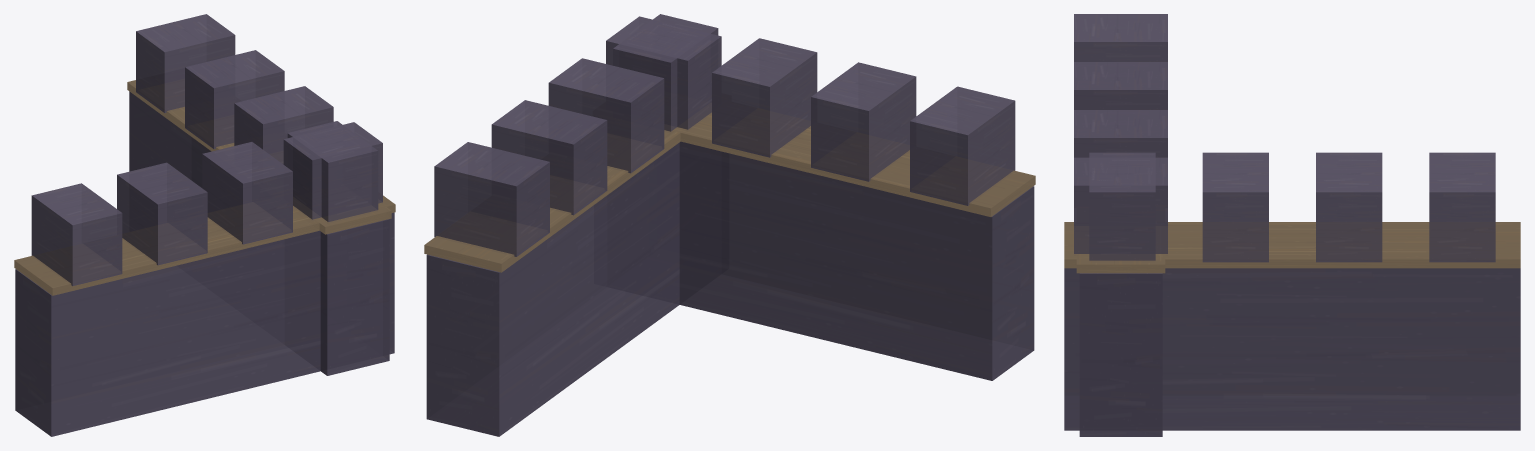
File: rempart-angle.glb
3 renders of one model, left to right at view 1: azimuth 30°, elevation 25°; view 2: azimuth 150°, elevation 25°; view 3: azimuth 270°, elevation 25°, orthographic. The views are drawn at different scales.
Visible parts, largest first — view 1: ABase, BBase, ACrenel0, ACrenel1, ACrenel2, BCrenel2, BCrenel3, ACrenel3, ALiseré, BCrenel0, BCrenel1, BLiseré; view 2: ABase, BBase, BCrenel3, ACrenel0, ACrenel2, ACrenel1, BCrenel1, BCrenel2, BCrenel0, ALiseré, ACrenel3, BLiseré; view 3: BBase, ABase, BLiseré, BCrenel3, BCrenel1, BCrenel2, ACrenel3, BCrenel0, ACrenel0, ACrenel1, ACrenel2, ALiseré.
Boxes of the visible parts, x1=… form: ABase: x1=15, y1=212, x2=394, y2=436; BBase: x1=129, y1=91, x2=389, y2=375; ACrenel0: x1=31, y1=183, x2=122, y2=286; ACrenel1: x1=117, y1=162, x2=207, y2=265; ACrenel2: x1=202, y1=142, x2=292, y2=244; BCrenel2: x1=185, y1=50, x2=284, y2=148; BCrenel3: x1=136, y1=14, x2=235, y2=112; ACrenel3: x1=287, y1=121, x2=378, y2=222; ALiseré: x1=14, y1=195, x2=395, y2=295; BCrenel0: x1=283, y1=122, x2=382, y2=219; BCrenel1: x1=234, y1=86, x2=333, y2=164; BLiseré: x1=127, y1=80, x2=391, y2=234; ABase: x1=611, y1=141, x2=1034, y2=380; BBase: x1=426, y1=142, x2=679, y2=436; BCrenel3: x1=434, y1=142, x2=549, y2=256; ACrenel0: x1=910, y1=86, x2=1015, y2=205; ACrenel2: x1=712, y1=38, x2=817, y2=157; ACrenel1: x1=811, y1=62, x2=916, y2=181; BCrenel1: x1=548, y1=58, x2=664, y2=173; BCrenel2: x1=491, y1=100, x2=607, y2=215; BCrenel0: x1=606, y1=16, x2=721, y2=129; ALiseré: x1=672, y1=109, x2=1035, y2=216; ACrenel3: x1=613, y1=14, x2=718, y2=131; BLiseré: x1=424, y1=128, x2=684, y2=272; BBase: x1=1064, y1=268, x2=1520, y2=430; ABase: x1=1079, y1=273, x2=1162, y2=436; BLiseré: x1=1064, y1=222, x2=1520, y2=268; BCrenel3: x1=1429, y1=152, x2=1495, y2=262; BCrenel1: x1=1202, y1=152, x2=1268, y2=262; BCrenel2: x1=1316, y1=152, x2=1382, y2=262; ACrenel3: x1=1074, y1=157, x2=1167, y2=253; BCrenel0: x1=1089, y1=152, x2=1155, y2=260; ACrenel0: x1=1074, y1=14, x2=1167, y2=61; ACrenel1: x1=1074, y1=62, x2=1167, y2=109; ACrenel2: x1=1074, y1=110, x2=1167, y2=157; ALiseré: x1=1076, y1=254, x2=1165, y2=273.
Size of the model in its own units: 1.65 by 0.96 by 1.65.
3 materials, 3 textured.
